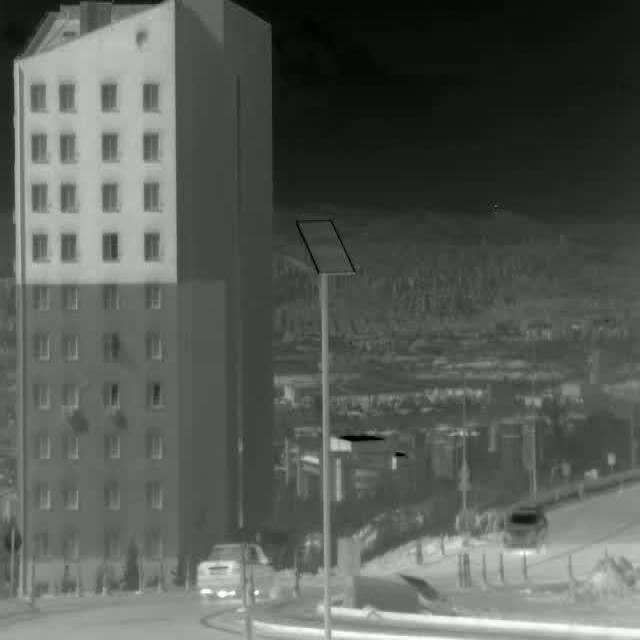Car: (192, 540, 276, 597), (499, 504, 554, 552)
